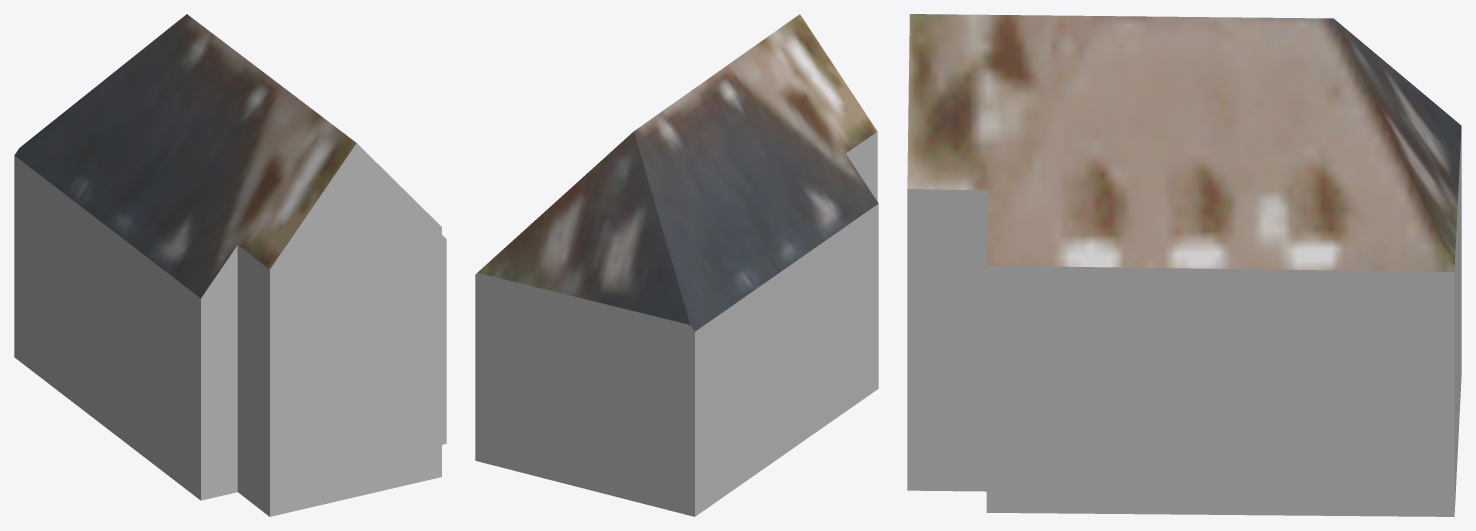
File: DEBW_0010007Txef.gltf
3 renders of one model, left to right at view 1: azimuth 30°, elevation 25°; view 2: azimuth 150°, elevation 25°; view 3: azimuth 270°, elevation 25°, orthographic. The views are drawn at different scales.
Visible parts, largest first — view 1: Z_UP; view 2: Z_UP; view 3: Z_UP.
Part boxes in pixels (x1,y1,x2,y2): Z_UP: (14,14,446,516); Z_UP: (475,14,878,516); Z_UP: (907,14,1461,516).
Bounding box in the file's own units: 10.34 × 14 × 16.47.
2 materials, 1 textured.
